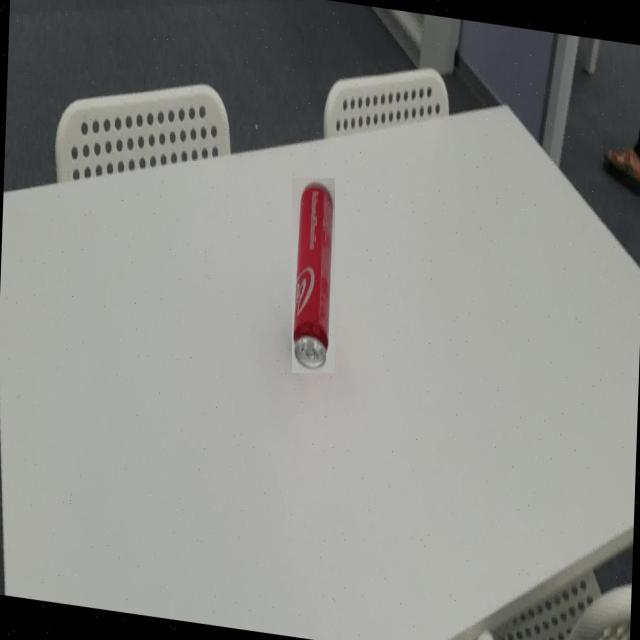coca-cola: (292, 178, 335, 373)
